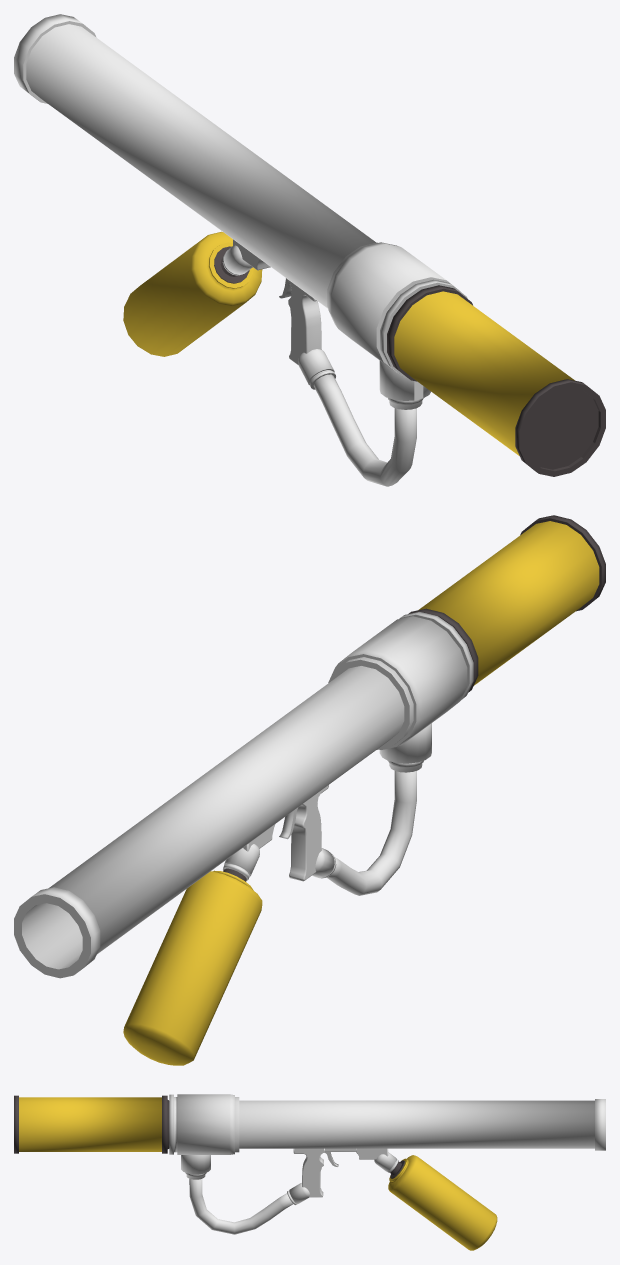
Rendered from Weapon_Launcher.fbx.
3 views of the same model, one above another, from view 1: azimuth 30°, elevation 25°; view 2: azimuth 150°, elevation 25°; view 3: azimuth 270°, elevation 25° (orthographic). The views are drawn at different scales.
Visible parts, largest first — view 1: LauncherTube, BackTank, FrontTank, Tube, Grip; view 2: LauncherTube, BackTank, FrontTank, Tube, Grip; view 3: LauncherTube, BackTank, FrontTank, Grip, Tube.
Boxes of the visible parts, x1,y1,x2,y2 form: LauncherTube: [14, 14, 467, 409]; BackTank: [387, 285, 605, 476]; FrontTank: [123, 231, 262, 356]; Tube: [313, 374, 416, 486]; Grip: [222, 239, 335, 389]; LauncherTube: [14, 612, 473, 978]; BackTank: [408, 515, 605, 692]; FrontTank: [123, 868, 262, 1065]; Tube: [327, 771, 416, 895]; Grip: [223, 785, 336, 881]; LauncherTube: [169, 1094, 605, 1179]; BackTank: [14, 1095, 169, 1153]; FrontTank: [388, 1155, 497, 1250]; Grip: [287, 1148, 398, 1205]; Tube: [189, 1178, 292, 1234].
Bounding box in the file's own units: 121 × 333 × 1186.
